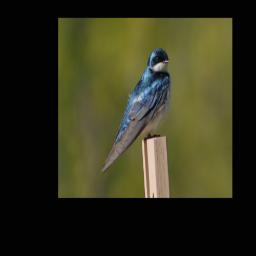Swallow: (101, 44, 173, 176)
